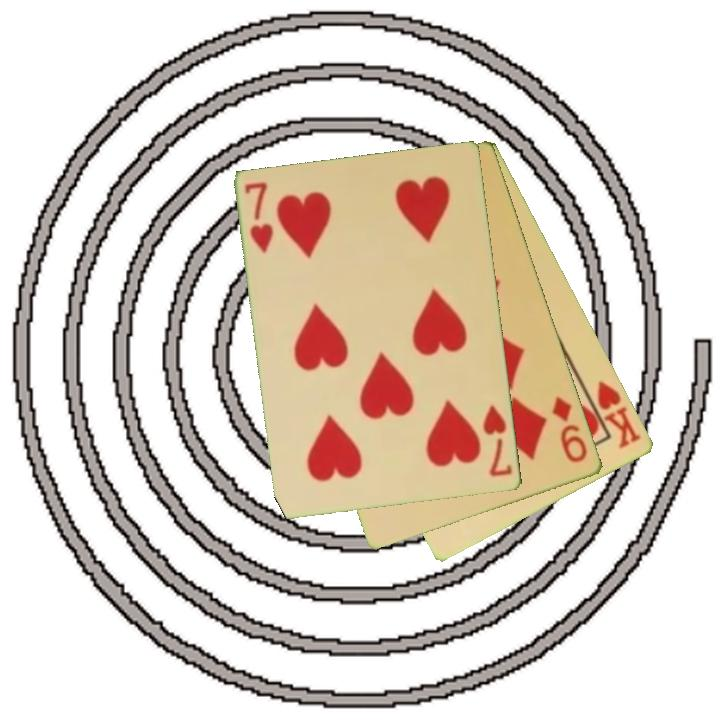7h: (480, 402, 516, 480), (241, 179, 277, 256)
9d: (549, 393, 591, 466)
Kh: (580, 378, 645, 452)
